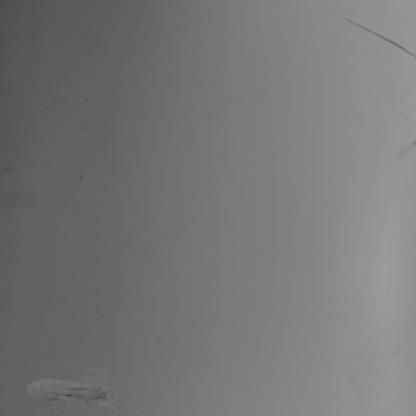sunshang: (27, 367, 119, 416), (342, 18, 416, 60)
